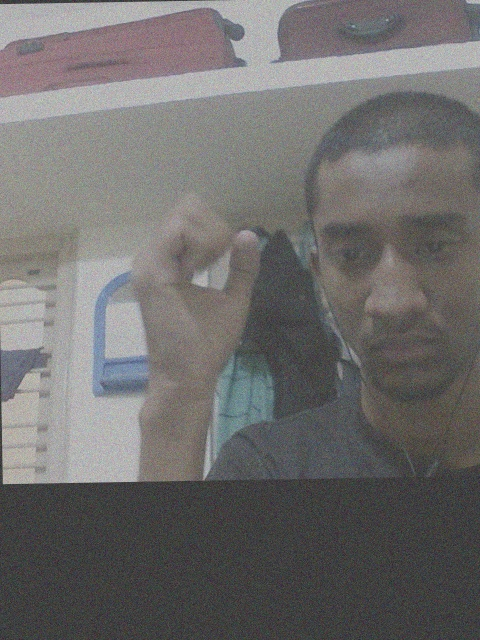hand: (124, 190, 264, 393)
